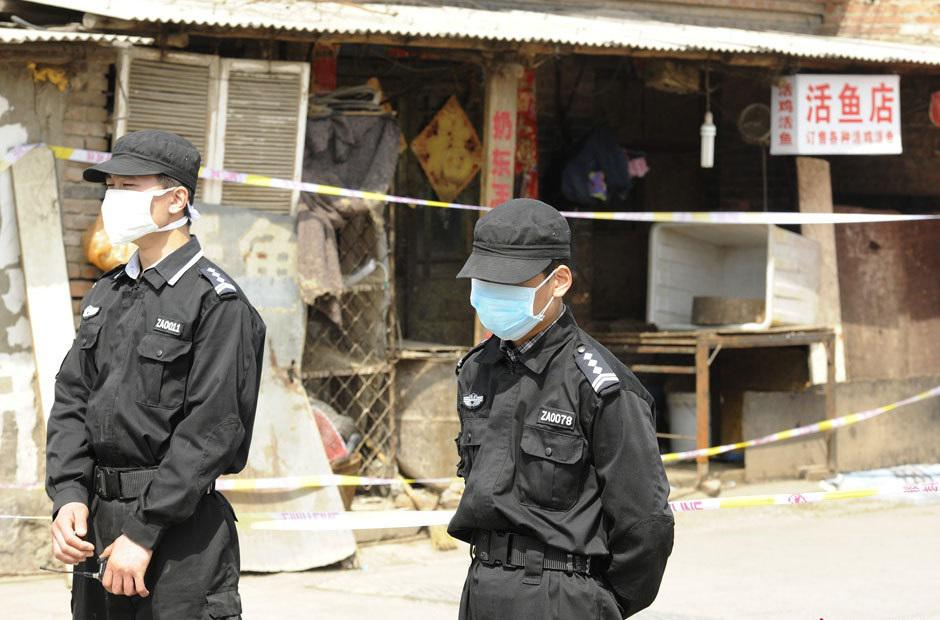OK: (470, 271, 556, 342), (96, 167, 166, 237)
